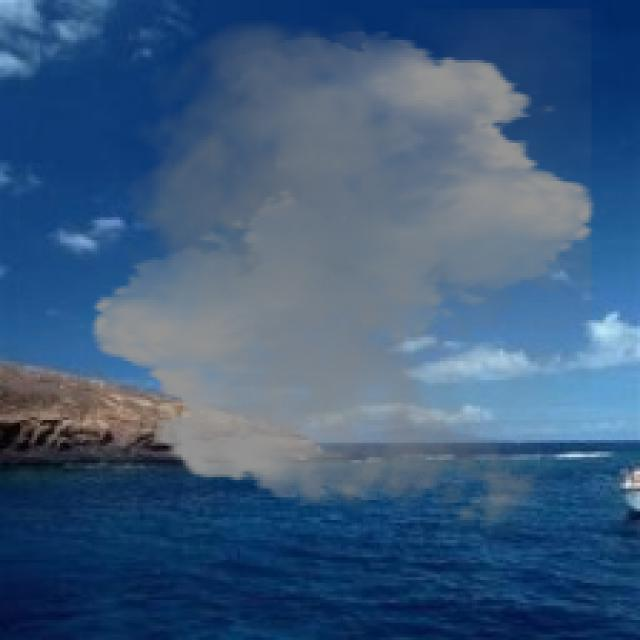smoke: (74, 8, 612, 543)
